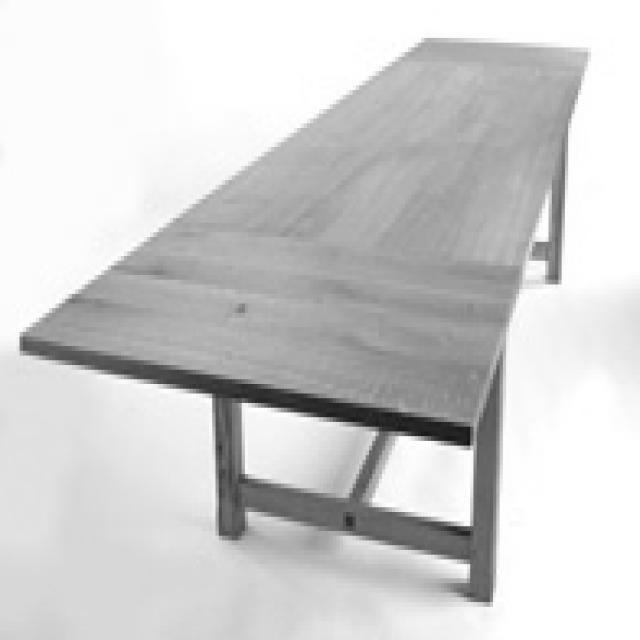table: (22, 35, 590, 605)
